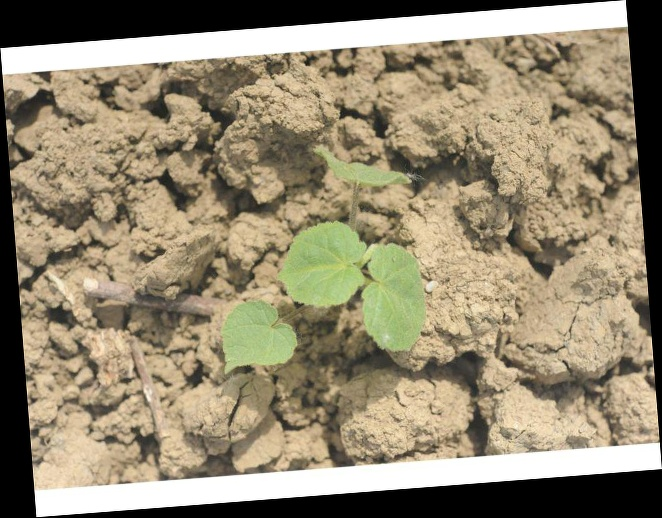velvet: (214, 147, 423, 370)
